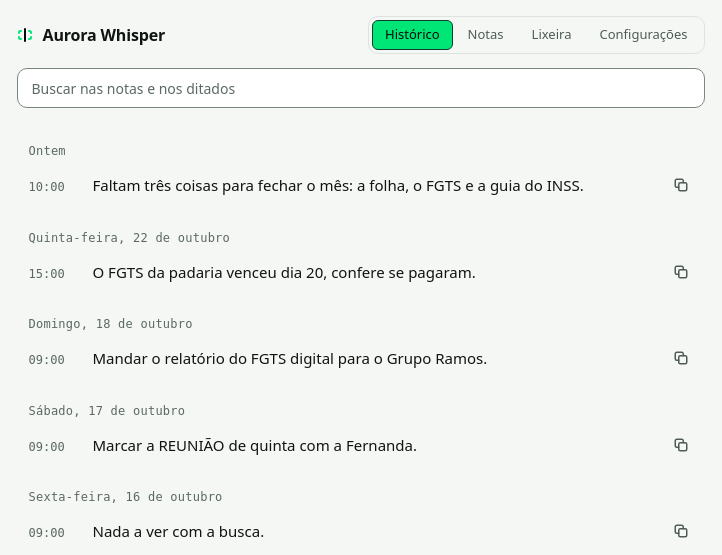
it: os dois grupos › Notas e Ditados, com a contagem, a bolinha da cor, o título · a linha que casa e o quando do ditado
Type "fgts" into the search field labelled "Buscar nas notas e nos ditados" at (360, 88), box [16,68,704,108]
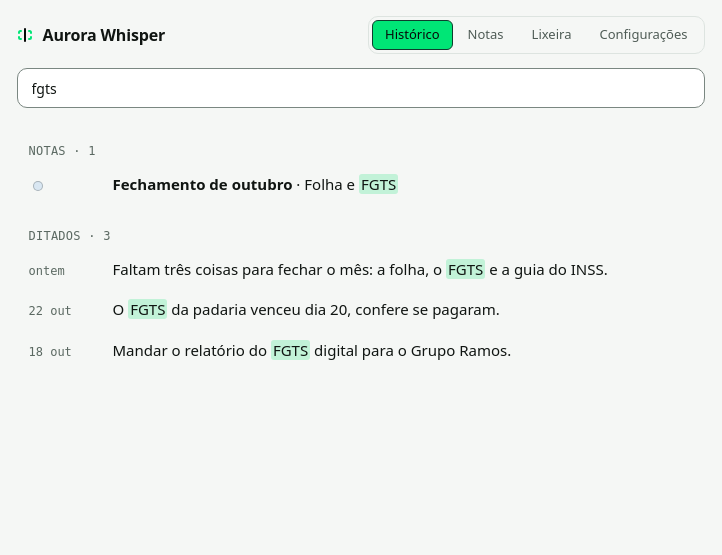
Now the heading "Notas · 1" is shown, box [28,144,96,158]
Now the list item "10:00 Faltam três coisas para fechar o mês: a folha, o FGTS e a guia do INSS." is gone
Now the button "Fechamento de outubro · Folha e FGTS" is shown, box [16,164,704,204]
